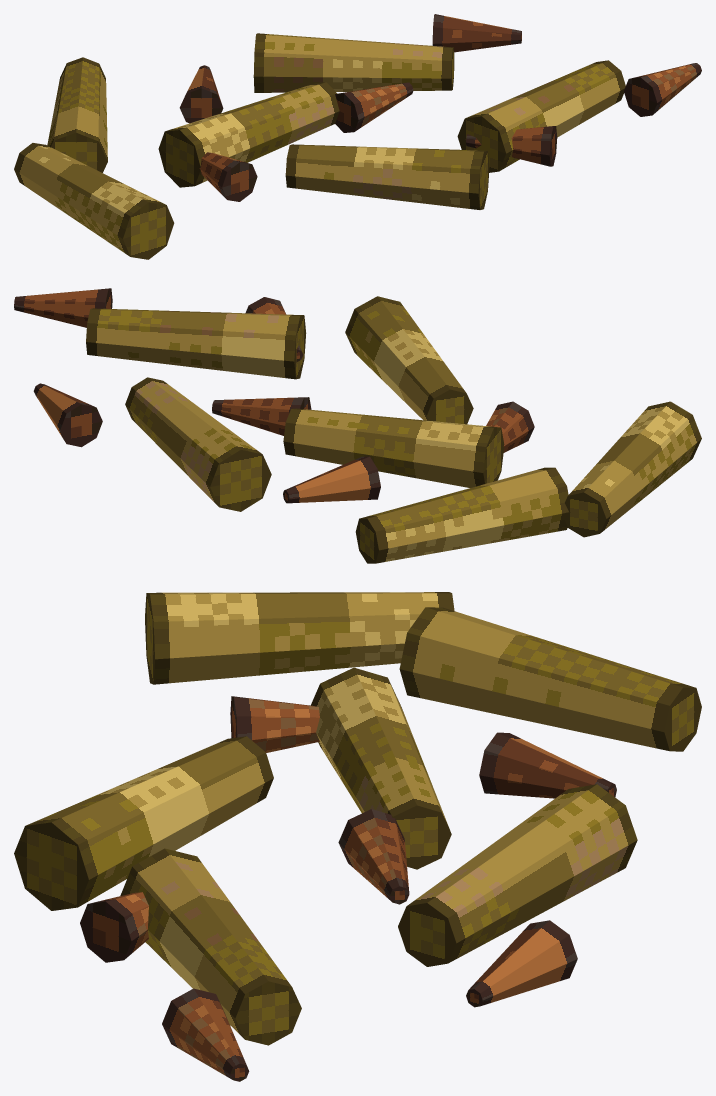
The model's file is SM_Cartridges_Pile_01.glb.
3 renders of one model, top to bottom at view 1: azimuth 30°, elevation 25°; view 2: azimuth 150°, elevation 25°; view 3: azimuth 270°, elevation 25°, orthographic. The views are drawn at different scales.
Visible parts, largest first — view 1: SM_Cartridges_Pile_01; view 2: SM_Cartridges_Pile_01; view 3: SM_Cartridges_Pile_01.
Boxes of the visible parts, x1,y1,x2,y2 form: SM_Cartridges_Pile_01: (14,14,701,259); SM_Cartridges_Pile_01: (14,288,701,563); SM_Cartridges_Pile_01: (14,592,701,1081).
Size of the model in its own units: 0.13 by 0.0116 by 0.0815.
1 material, 1 textured.
